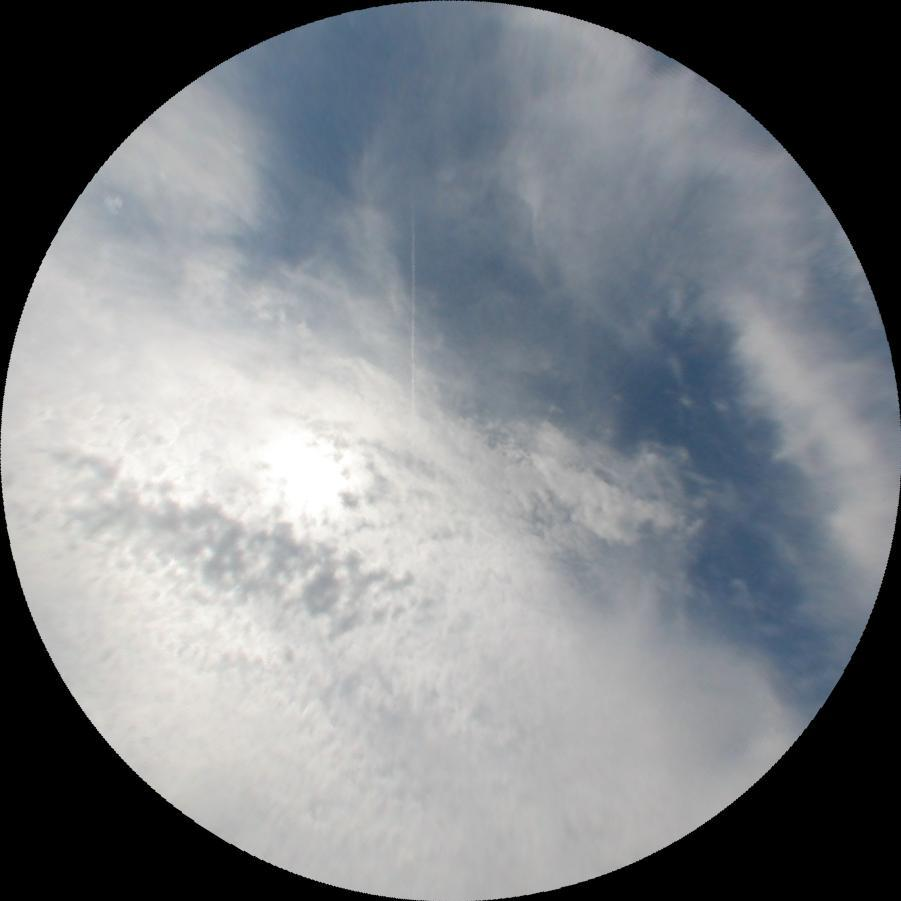contrail young: (410, 174, 416, 410)
sun: (252, 413, 361, 528)
